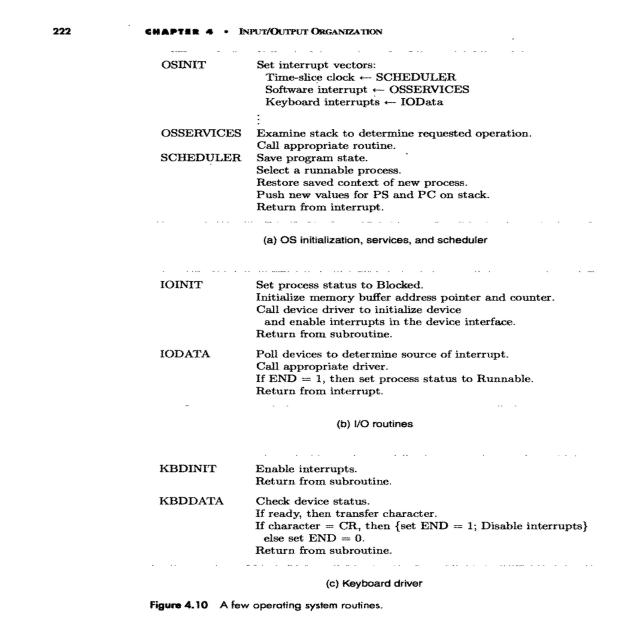diagram: (84, 48, 622, 623)
